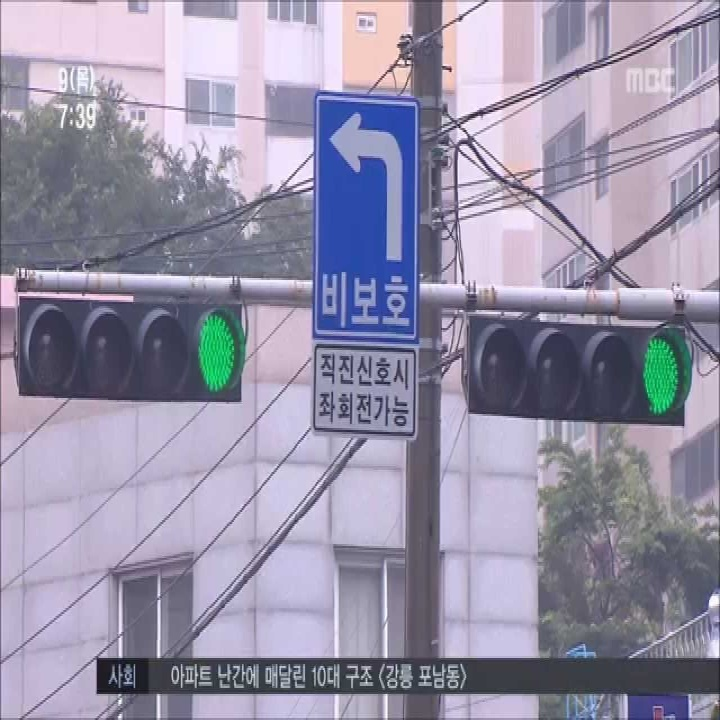left: (326, 106, 411, 267)
